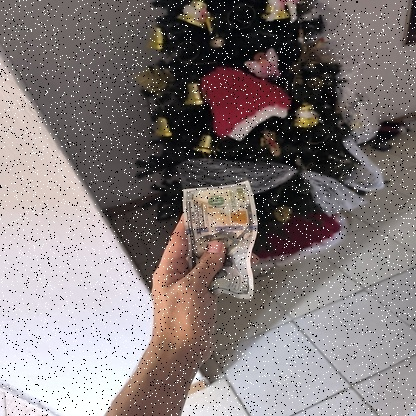one_hundred-front: (180, 176, 256, 301)
